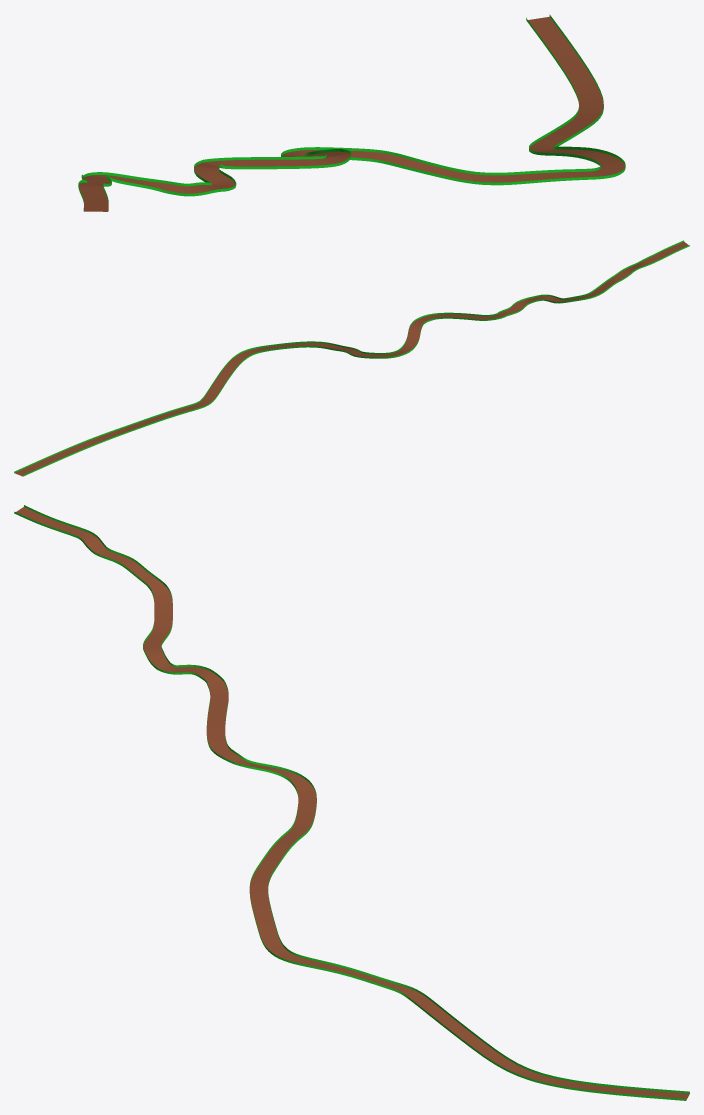
Rendered from TutrialCourseTest２_kai.fbx.
The picture shows the model from 3 angles, top to bottom: view 1: azimuth 30°, elevation 25°; view 2: azimuth 150°, elevation 25°; view 3: azimuth 270°, elevation 25°; orthographic projection. The views are drawn at different scales.
Visible parts, largest first — view 1: Course; view 2: Course; view 3: Course.
Boxes of the visible parts, x1,y1,x2,y2 form: Course: [78, 14, 625, 211]; Course: [14, 240, 689, 476]; Course: [14, 505, 689, 1100].
Bounding box in the file's own units: 14093 × 5263 × 12141.
